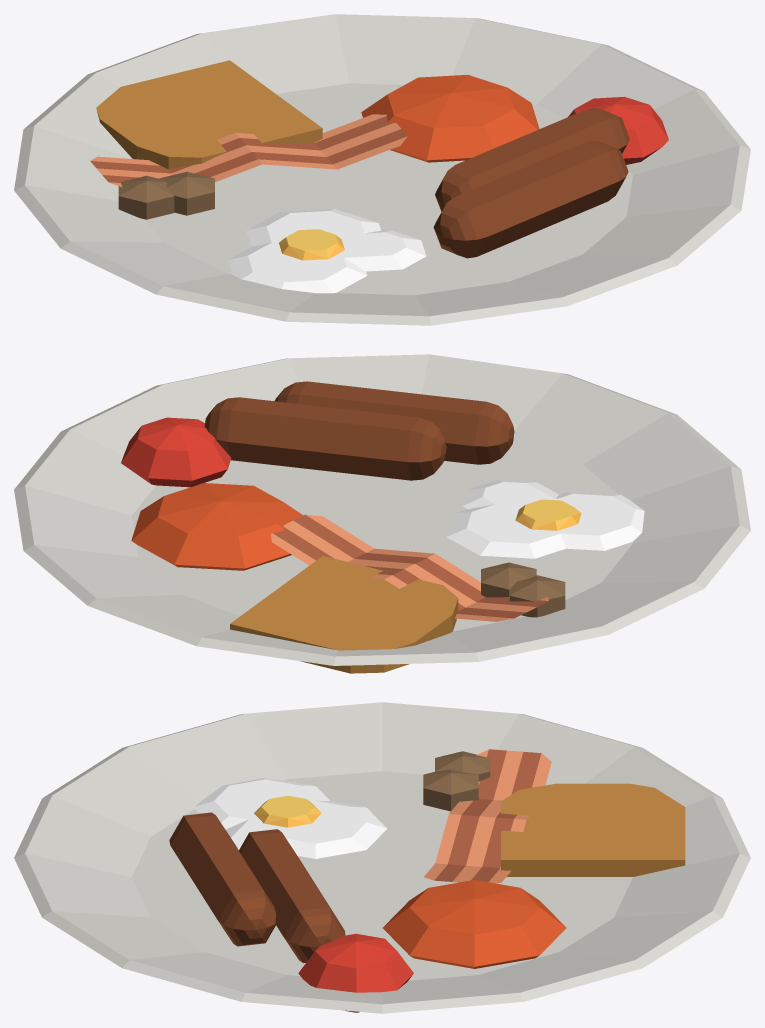
File: m-full-english.glb
3 views of the same model, one above another, from view 1: azimuth 30°, elevation 25°; view 2: azimuth 150°, elevation 25°; view 3: azimuth 270°, elevation 25° (orthographic).
Parts seen in each view (by area): view 1: m_full_english; view 2: m_full_english; view 3: m_full_english.
Boxes of the visible parts, box(x1,y1,x2,y2) form: m_full_english: box(14, 14, 750, 325); m_full_english: box(14, 354, 750, 673); m_full_english: box(14, 702, 750, 1013).
Bounding box in the file's own units: 0.28 × 0.0354 × 0.28.
